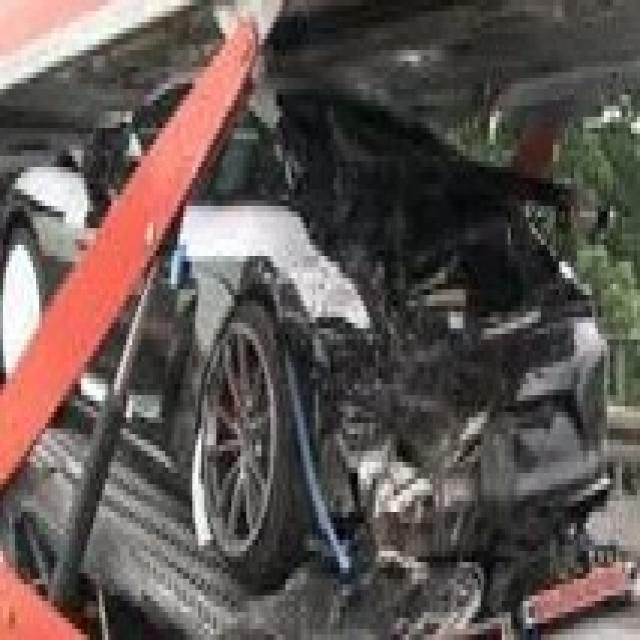severe: (33, 115, 635, 550)
